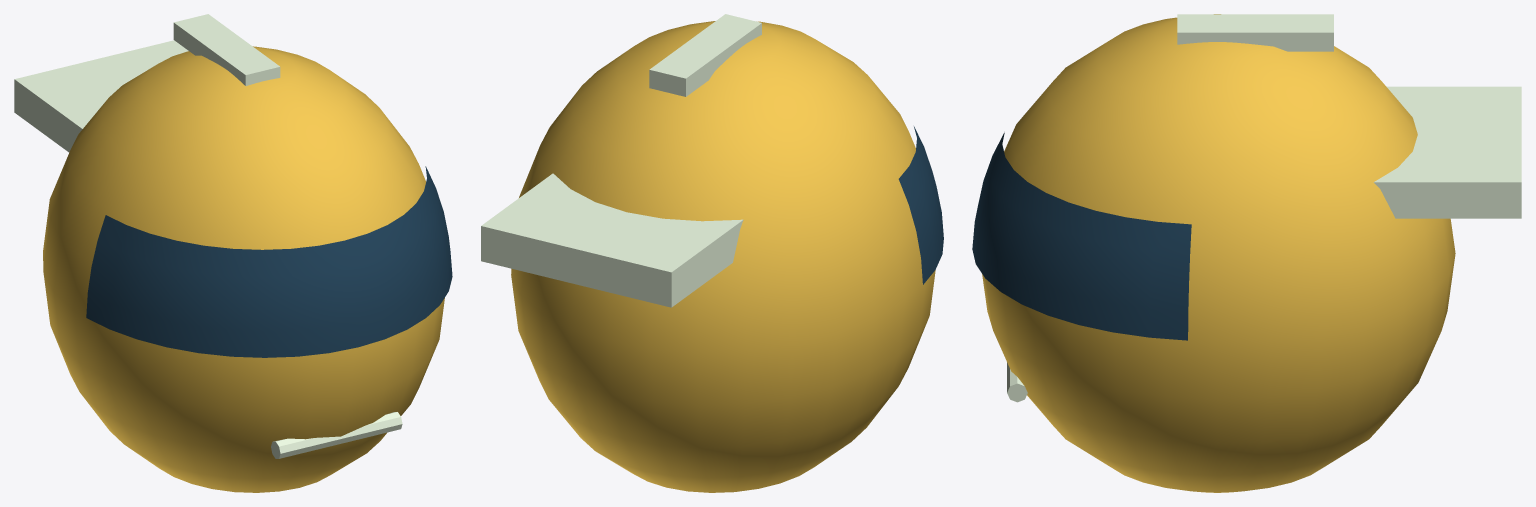
File: comet.glb
3 views of the same model, side by side, from view 1: azimuth 30°, elevation 25°; view 2: azimuth 150°, elevation 25°; view 3: azimuth 270°, elevation 25° (orthographic). The views are drawn at different scales.
Visible parts, largest first — view 1: Helmet; view 2: Helmet; view 3: Helmet.
Boxes of the visible parts, left/top/right/bottom form: Helmet: left=14, top=14, right=452, bottom=492; Helmet: left=481, top=14, right=943, bottom=492; Helmet: left=972, top=14, right=1521, bottom=492.
Bounding box in the file's own units: 0.25 × 0.288 × 0.316.
